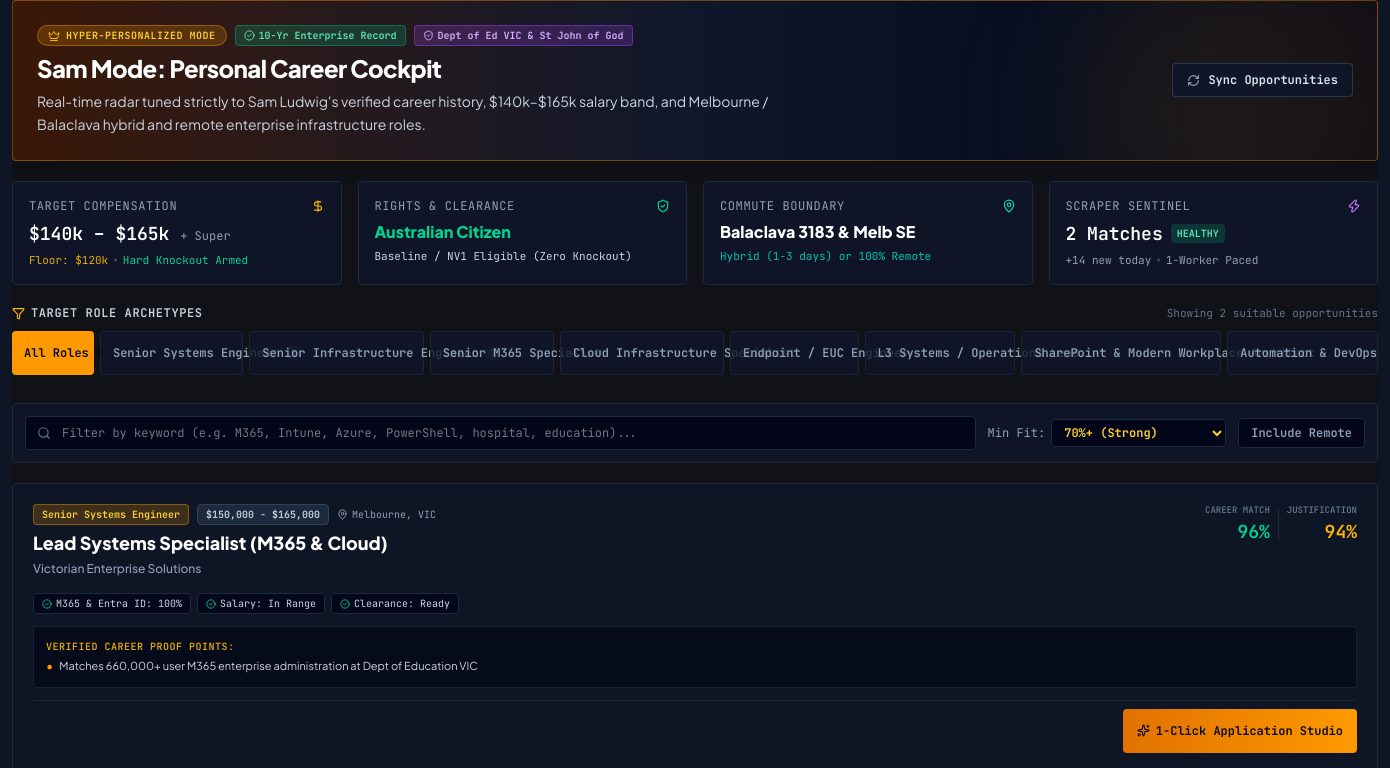
Test: CareerModeCockpit › filters job feed when selecting an archetype toggle
Expected: the heading "Lead Systems Specialist (M365 & Cloud)" is shown, [33,529,436,557]
Click on "Senior Infrastructure Engineer" archetype button
Click the button "Senior Infrastructure Engineer 1".
click(337, 353)  # box [249,331,424,375]
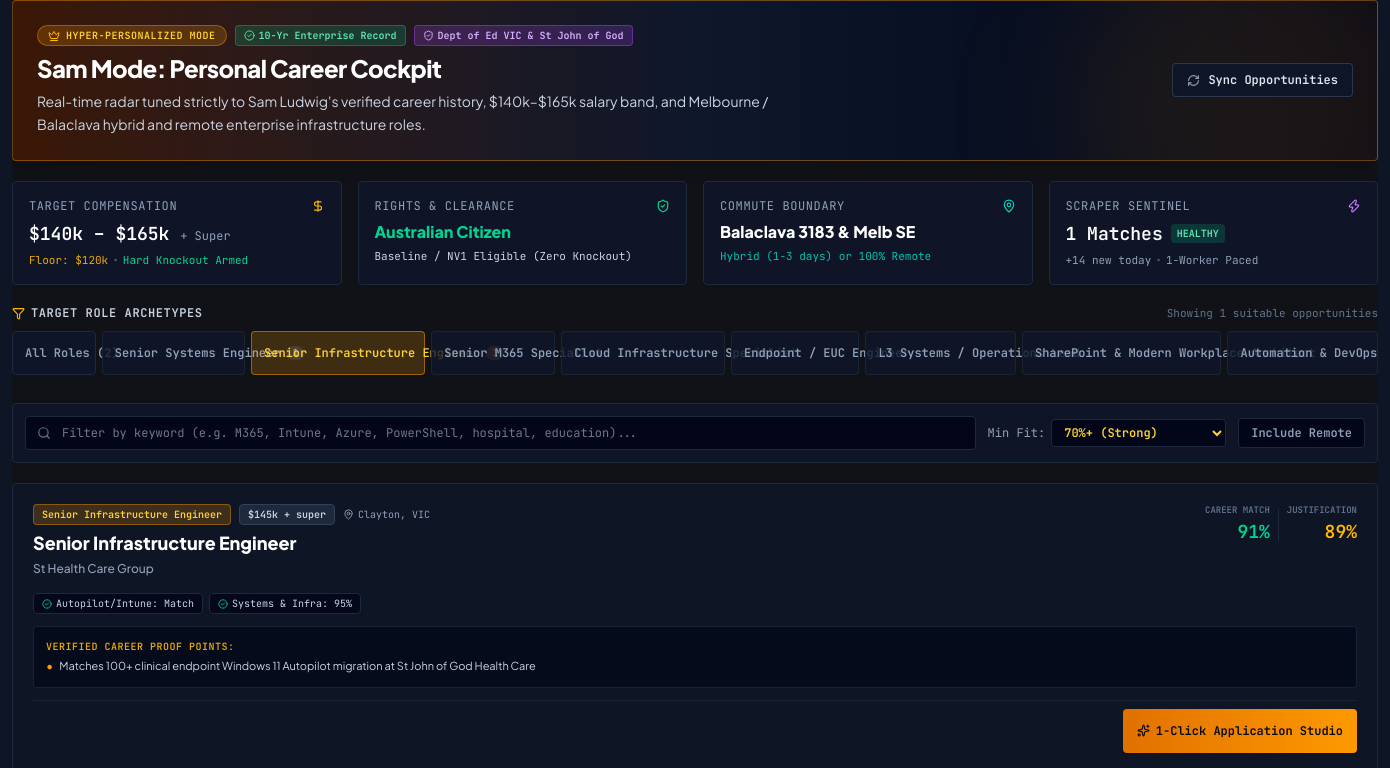
Expected: the heading "Senior Infrastructure Engineer" is shown, [33,531,296,554]
Now the heading "Lead Systems Specialist (M365 & Cloud)" is gone
